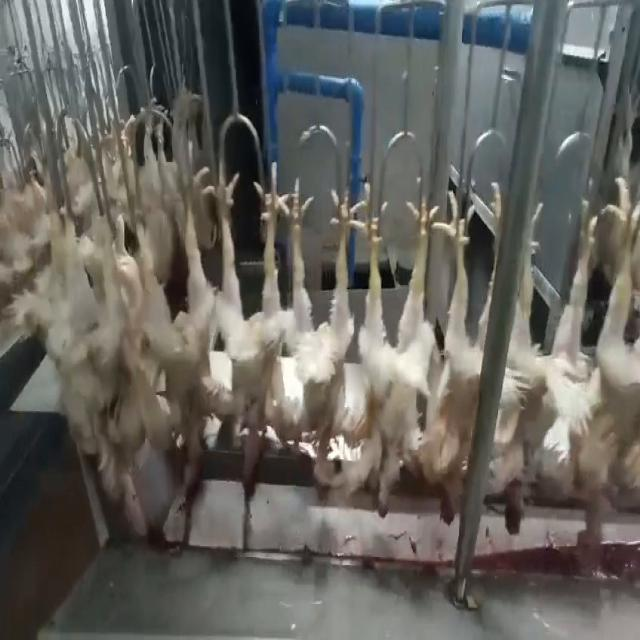chicken: (111, 145, 203, 502), (280, 175, 375, 510), (202, 157, 283, 500), (492, 198, 568, 544), (362, 182, 438, 522), (579, 176, 639, 586), (431, 189, 491, 529)
